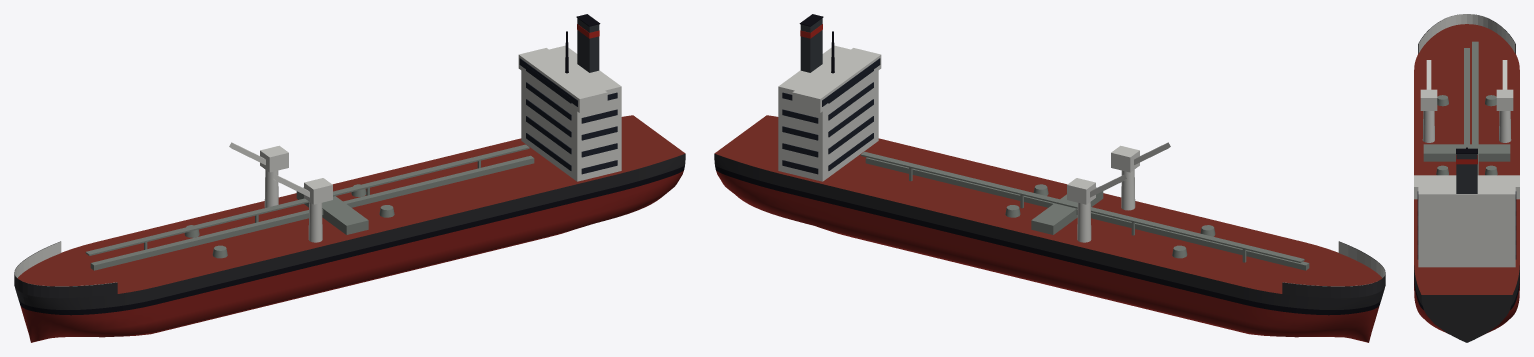
Rendered from product_tanker.glb.
3 renders of one model, left to right at view 1: azimuth 30°, elevation 25°; view 2: azimuth 150°, elevation 25°; view 3: azimuth 270°, elevation 25°, orthographic. The views are drawn at different scales.
Visible parts, largest first — view 1: product_tanker; view 2: product_tanker; view 3: product_tanker.
Boxes of the visible parts, x1,y1,x2,y2 form: product_tanker: (14,14,685,342); product_tanker: (714,14,1385,342); product_tanker: (1414,14,1519,342).
Bounding box in the file's own units: 115 × 32.13 × 18.99.
